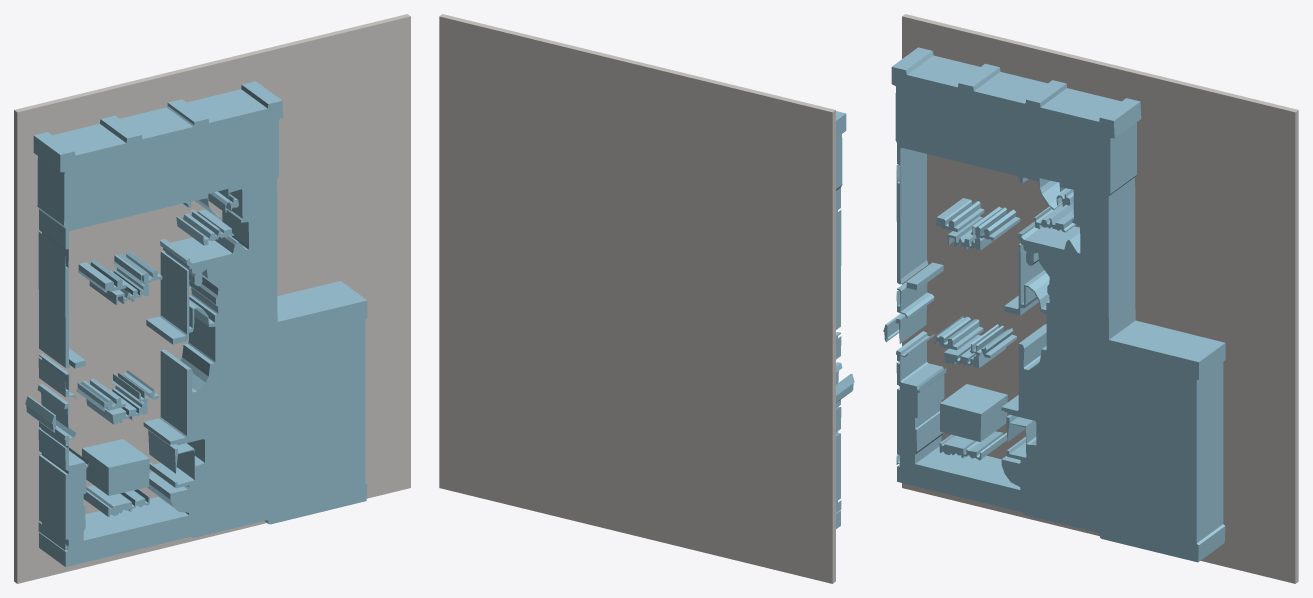
3 renders of one model, left to right at view 1: azimuth 30°, elevation 25°; view 2: azimuth 150°, elevation 25°; view 3: azimuth 330°, elevation 25°, orthographic.
Visible parts, largest first — view 1: world; view 2: world; view 3: world.
Boxes of the visible parts, x1,y1,x2,y2 form: world: (14, 14, 410, 583); world: (439, 14, 854, 583); world: (883, 14, 1298, 583).
Bounding box in the file's own units: 10.23 × 11.72 × 1.35.
